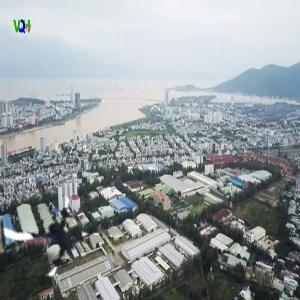drone: (2, 188, 95, 281)
